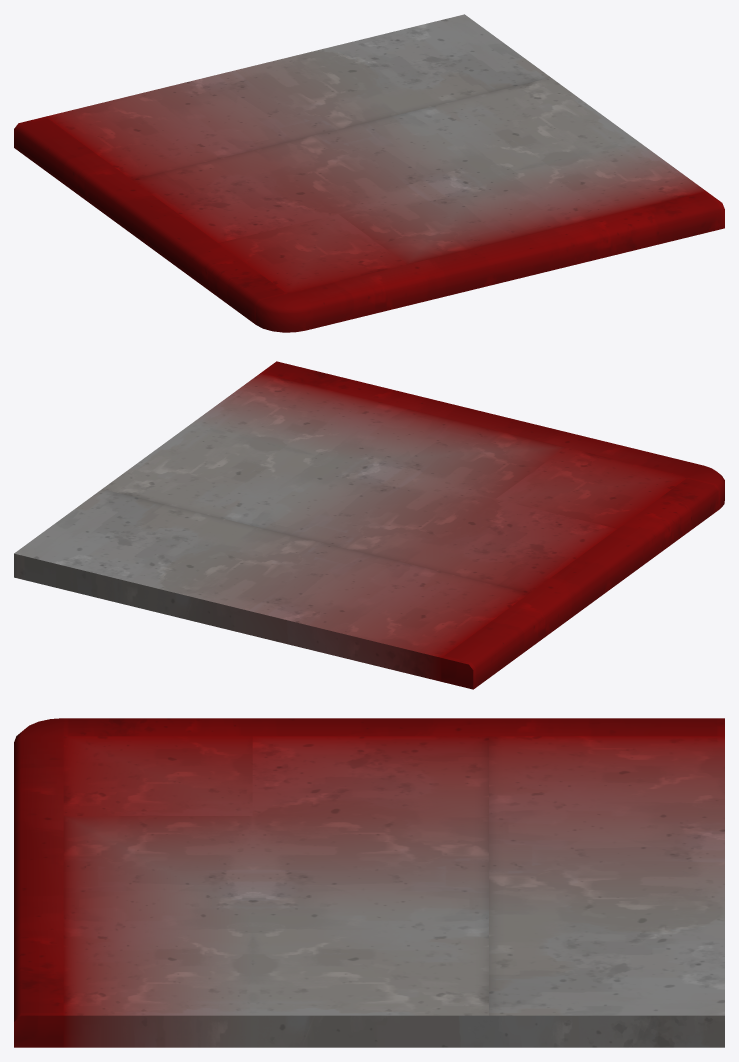
File: sidewalk_corner_flat_3m.glb
The picture shows the model from 3 angles, top to bottom: view 1: azimuth 30°, elevation 25°; view 2: azimuth 150°, elevation 25°; view 3: azimuth 270°, elevation 25°; orthographic projection. The views are drawn at different scales.
Visible parts, largest first — view 1: Sidewalk_Corner_Flat_3m; view 2: Sidewalk_Corner_Flat_3m; view 3: Sidewalk_Corner_Flat_3m.
Boxes of the visible parts, left/top/right/bottom form: Sidewalk_Corner_Flat_3m: left=14, top=14, right=724, bottom=332; Sidewalk_Corner_Flat_3m: left=14, top=361, right=724, bottom=689; Sidewalk_Corner_Flat_3m: left=14, top=718, right=724, bottom=1047.
Bounding box in the file's own units: 3.01 × 0.15 × 3.01.
1 material, 1 textured.
